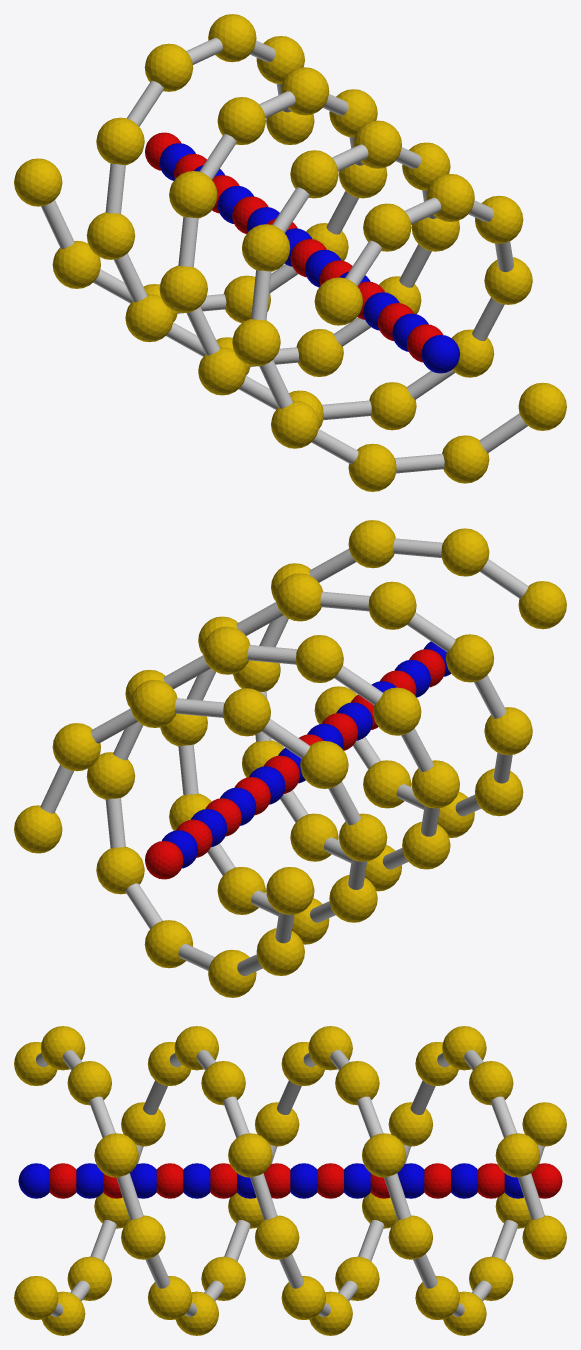
File: dna_helix.glb
3 views of the same model, one above another, from view 1: azimuth 30°, elevation 25°; view 2: azimuth 150°, elevation 25°; view 3: azimuth 270°, elevation 25° (orthographic). The views are drawn at different scales.
Parts seen in each view (by area): view 1: world; view 2: world; view 3: world.
Boxes of the visible parts, left/top/right/bottom form: world: left=14, top=14, right=566, bottom=491; world: left=14, top=520, right=566, bottom=997; world: left=14, top=1026, right=566, bottom=1335.
Bounding box in the file's own units: 3.5 × 3.35 × 6.2.
